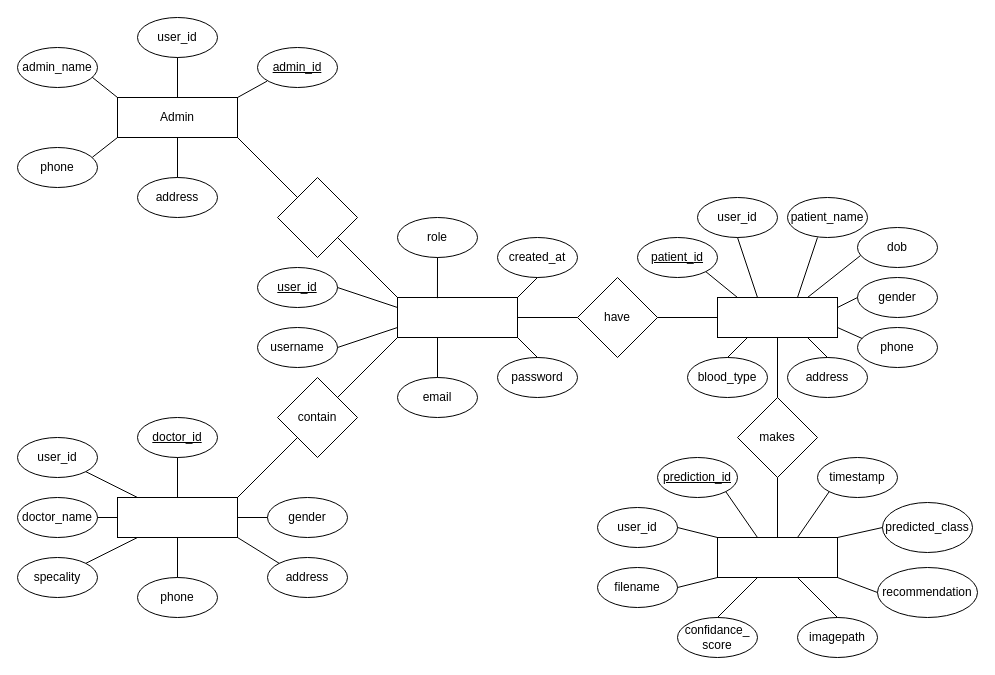
Some shapes in this 995 by 675 pixel diagram are drawn without their labels. Here are the shapes that lost their labels. From the top down, the centre of each, then its label:
At (317,217): "has".
At (457,317): "Users".
At (777,317): "Patients".
At (177,517): "Doctors".
At (777,557): "Predictions".
